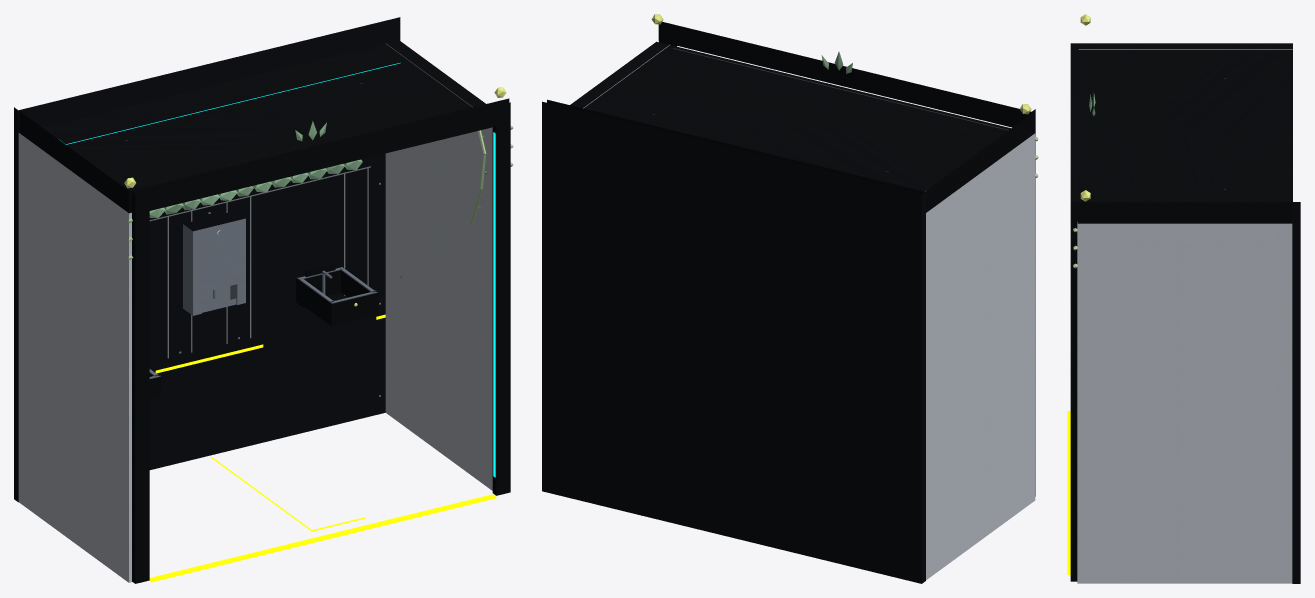
Rendered from tt_services_fountain_station.glb.
The picture shows the model from 3 angles, left to right: view 1: azimuth 30°, elevation 25°; view 2: azimuth 150°, elevation 25°; view 3: azimuth 270°, elevation 25°; orthographic projection. The views are drawn at different scales.
Visible parts, largest first — view 1: Back_Panel, Cheek_Left, Lintel, Cheek_Right, Frame_Trim, Bottle_Filler, Bowl_Standing, Court_Line, Green_Wall_Band, Reveal, LED_Jamb, Bowl_Standing_Steel; view 2: Back_Panel, Cheek_Left, Lintel, Frame_Trim; view 3: Cheek_Right, Lintel, Frame_Trim, Back_Panel, Court_Line.
Part boxes in pixels (left/top/right/bottom): Back_Panel: left=14, top=17, right=400, bottom=502; Cheek_Left: left=18, top=133, right=131, bottom=582; Lintel: left=19, top=40, right=509, bottom=213; Cheek_Right: left=385, top=43, right=492, bottom=490; Frame_Trim: left=131, top=102, right=510, bottom=583; Bottle_Filler: left=183, top=218, right=245, bottom=315; Bowl_Standing: left=296, top=263, right=378, bottom=326; Court_Line: left=149, top=494, right=497, bottom=582; Green_Wall_Band: left=149, top=159, right=362, bottom=217; Reveal: left=149, top=166, right=370, bottom=358; LED_Jamb: left=493, top=132, right=495, bottom=477; Bowl_Standing_Steel: left=296, top=267, right=377, bottom=303; Back_Panel: left=542, top=101, right=925, bottom=583; Cheek_Left: left=926, top=133, right=1035, bottom=580; Lintel: left=547, top=41, right=1034, bottom=212; Frame_Trim: left=658, top=21, right=1035, bottom=496; Cheek_Right: left=1077, top=222, right=1292, bottom=583; Lintel: left=1078, top=43, right=1292, bottom=223; Frame_Trim: left=1070, top=43, right=1078, bottom=581; Back_Panel: left=1292, top=202, right=1300, bottom=583; Court_Line: left=1067, top=411, right=1070, bottom=575.
Size of what is drawn, in the model's own units: 2.62 by 2.67 by 1.41.
Materials: 13 (5 with a texture image).
